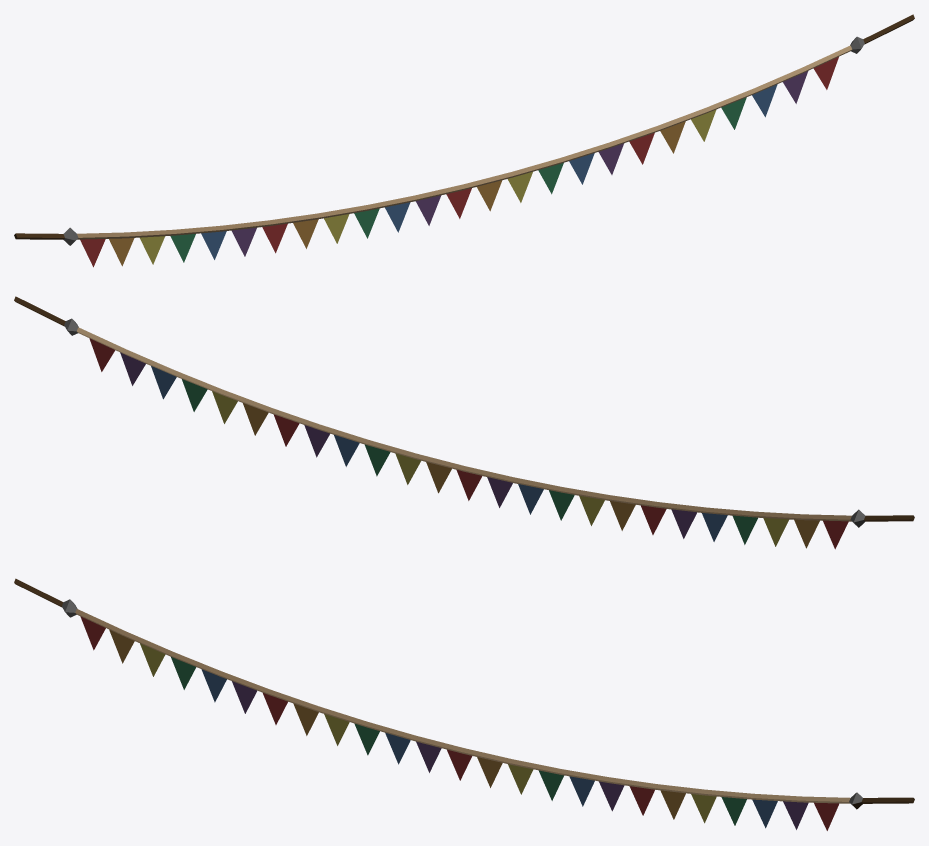
File: ZLP_Build_F_14.FBX
3 views of the same model, one above another, from view 1: azimuth 30°, elevation 25°; view 2: azimuth 150°, elevation 25°; view 3: azimuth 330°, elevation 25° (orthographic).
Visible parts, largest first — view 1: ZLP_Build_F_14; view 2: ZLP_Build_F_14; view 3: ZLP_Build_F_14.
Boxes of the visible parts, x1=… form: ZLP_Build_F_14: x1=14, y1=14, x2=914, y2=267; ZLP_Build_F_14: x1=14, y1=296, x2=914, y2=549; ZLP_Build_F_14: x1=14, y1=578, x2=914, y2=830.
Bounding box in the file's own units: 1165 × 117 × 23.09.
